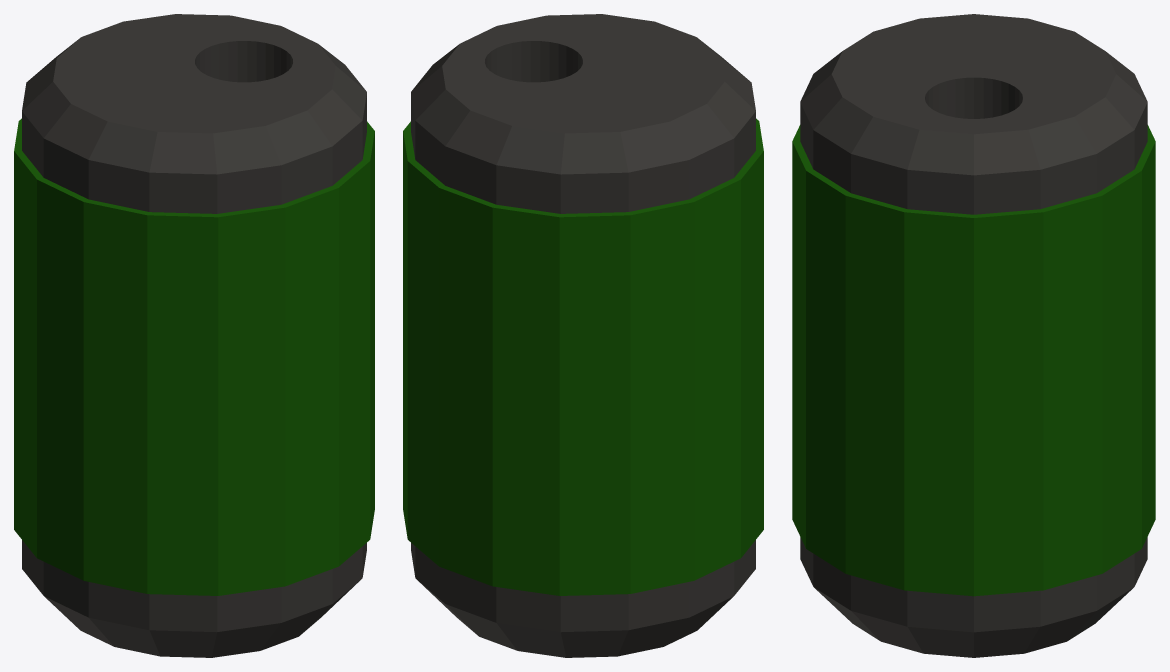
File: energol.obj
3 views of the same model, side by side, from view 1: azimuth 30°, elevation 25°; view 2: azimuth 150°, elevation 25°; view 3: azimuth 270°, elevation 25° (orthographic).
Visible parts, largest first — view 1: Cylinder.001; view 2: Cylinder.001; view 3: Cylinder.001.
Boxes of the visible parts, x1,y1,x2,y2 form: Cylinder.001: [14, 14, 374, 657]; Cylinder.001: [403, 14, 763, 657]; Cylinder.001: [792, 14, 1155, 657].
Size of the model in its own units: 2.09 by 3.35 by 2.09.
